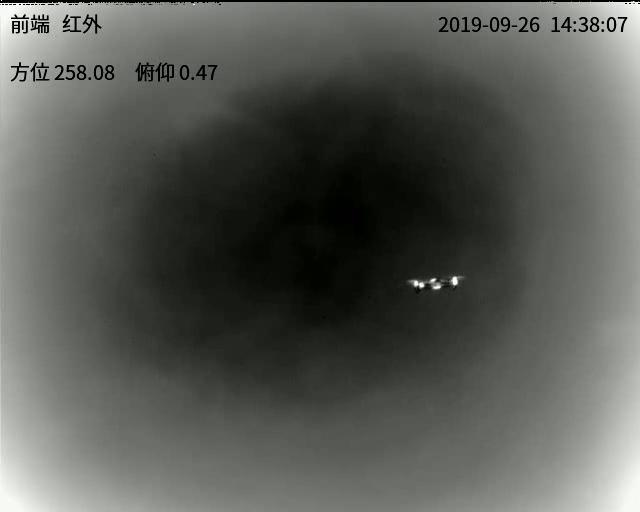DRONE: (409, 273, 462, 294)
